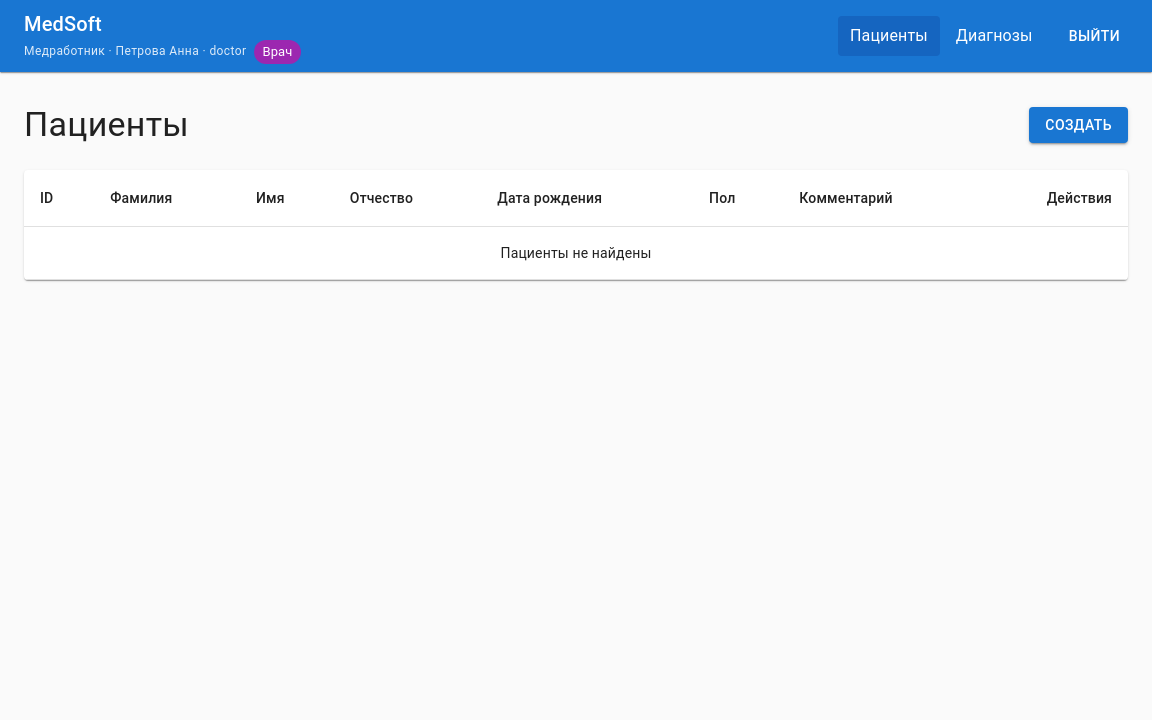
Test: App routing and existing pages › keeps patient validation from the previous stage
Expected: the text "Пациенты не найдены" is shown, [24, 226, 1128, 280]
Click the button "Создать": (1079, 125) [1029, 107, 1128, 143]
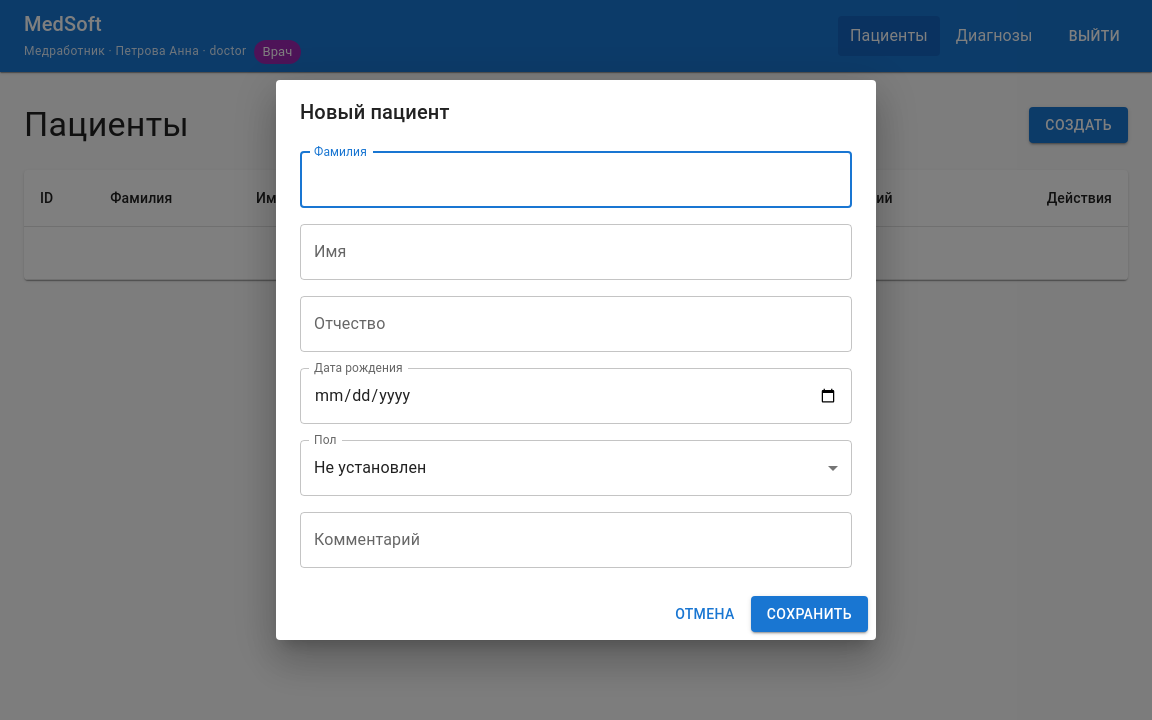
In the field labelled "Фамилия": (576, 180) [300, 152, 852, 208], type "Иванов"
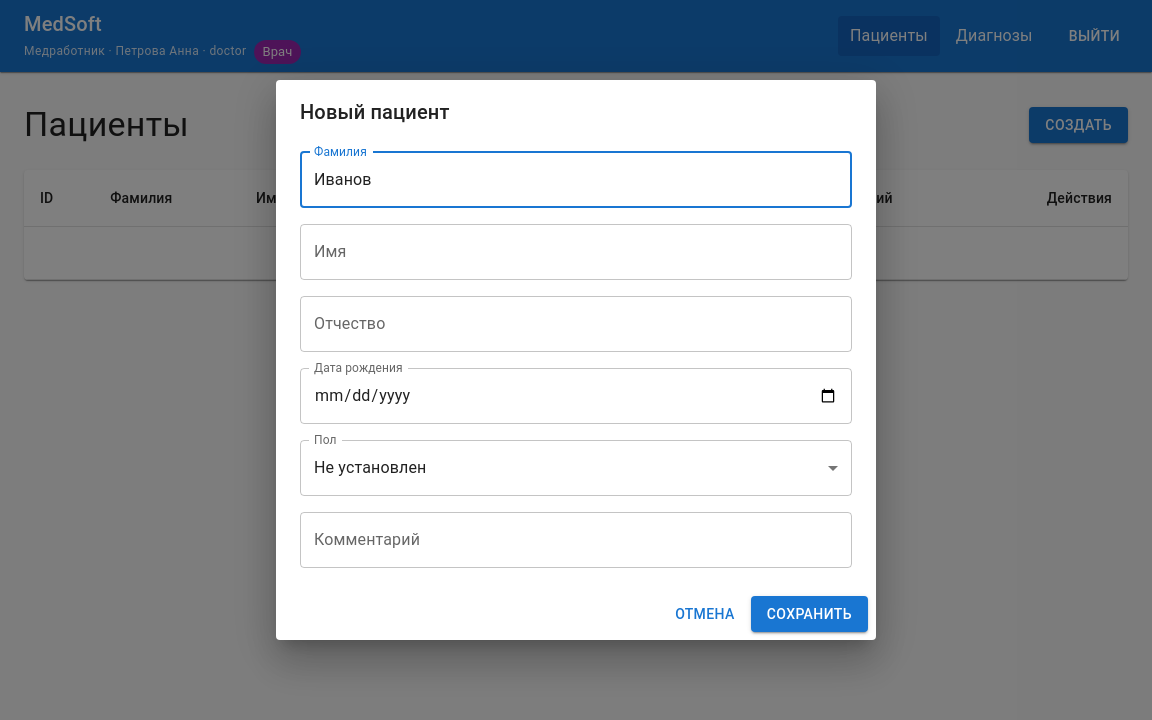
In the field labelled "Имя": (576, 252) [300, 224, 852, 280], type "Иван"
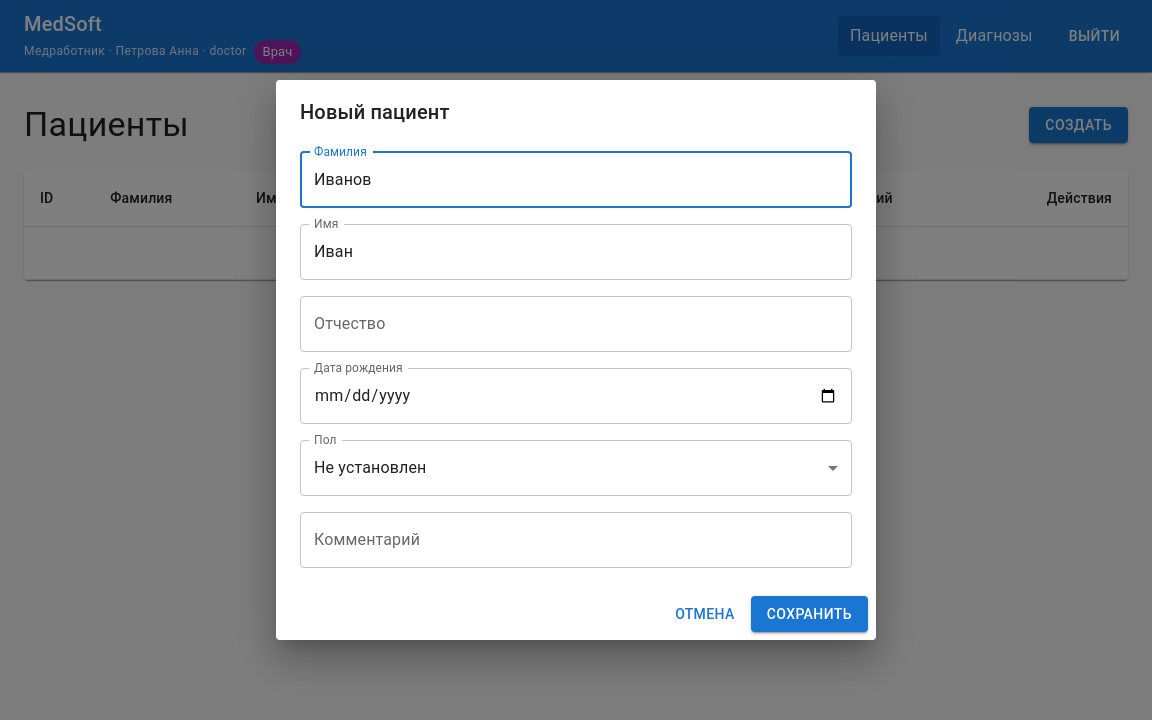
In the date field labelled "Дата рождения": (576, 396) [300, 368, 852, 424], type "2999-01-01"
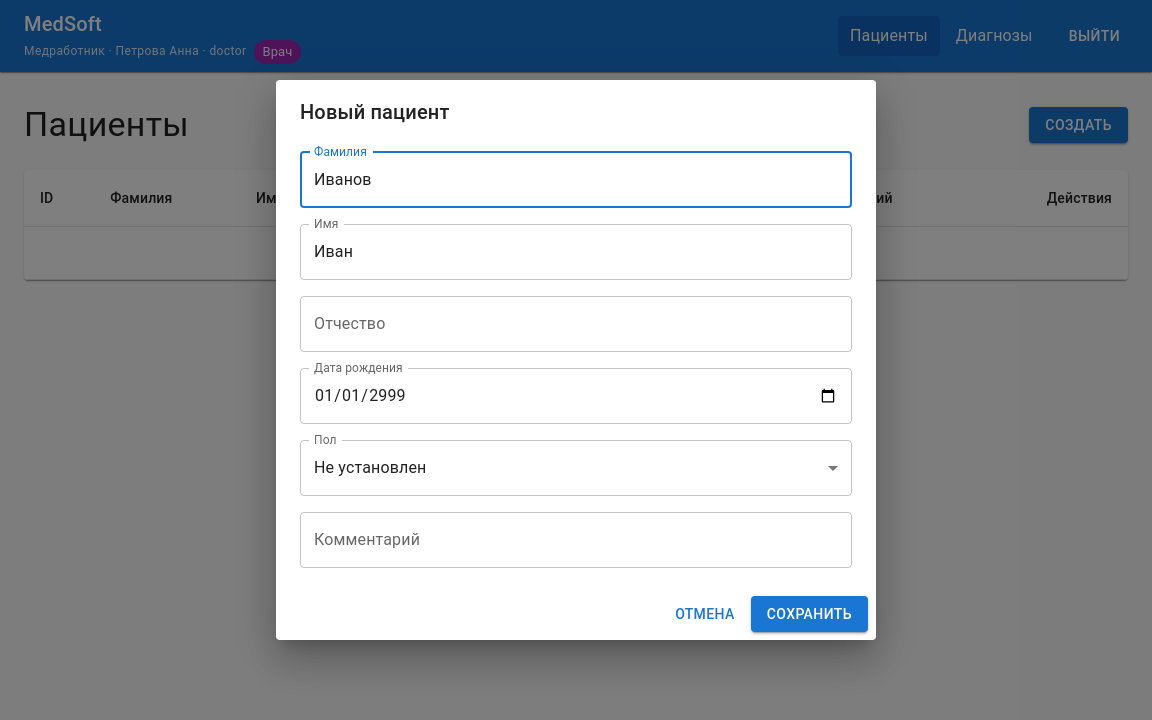
Click the button "Сохранить": (809, 614) [751, 596, 868, 632]
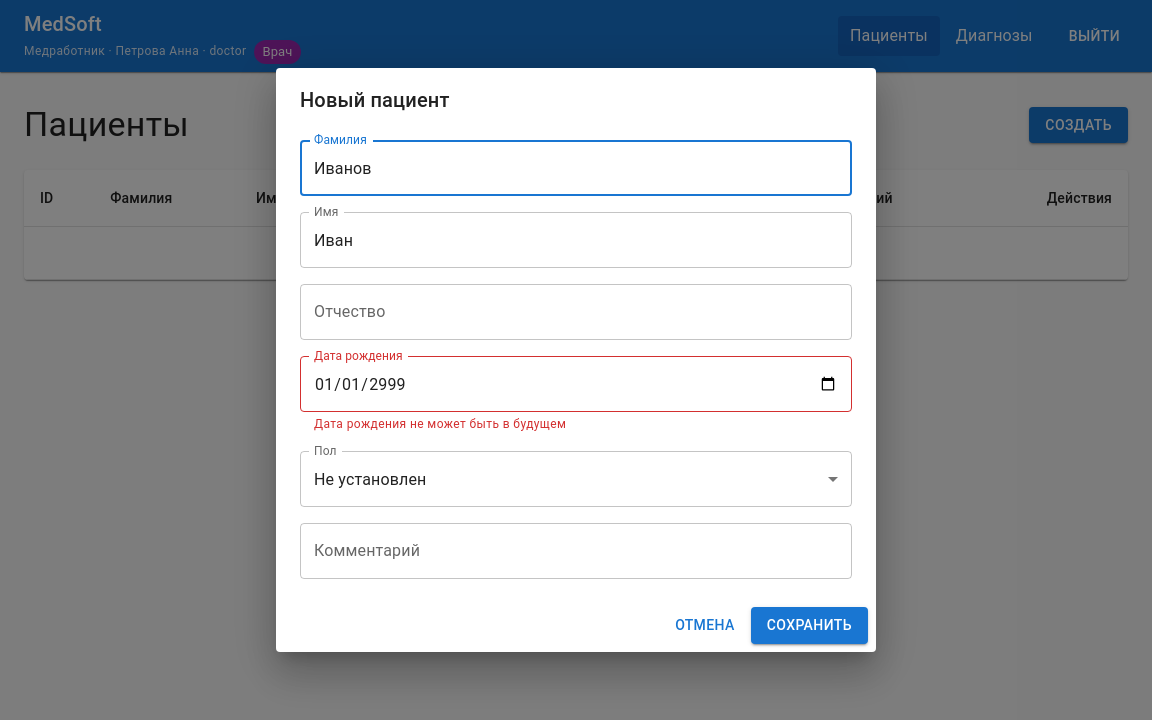
Now the text "Дата рождения не может быть в будущем" is shown, box [314, 417, 566, 431]
